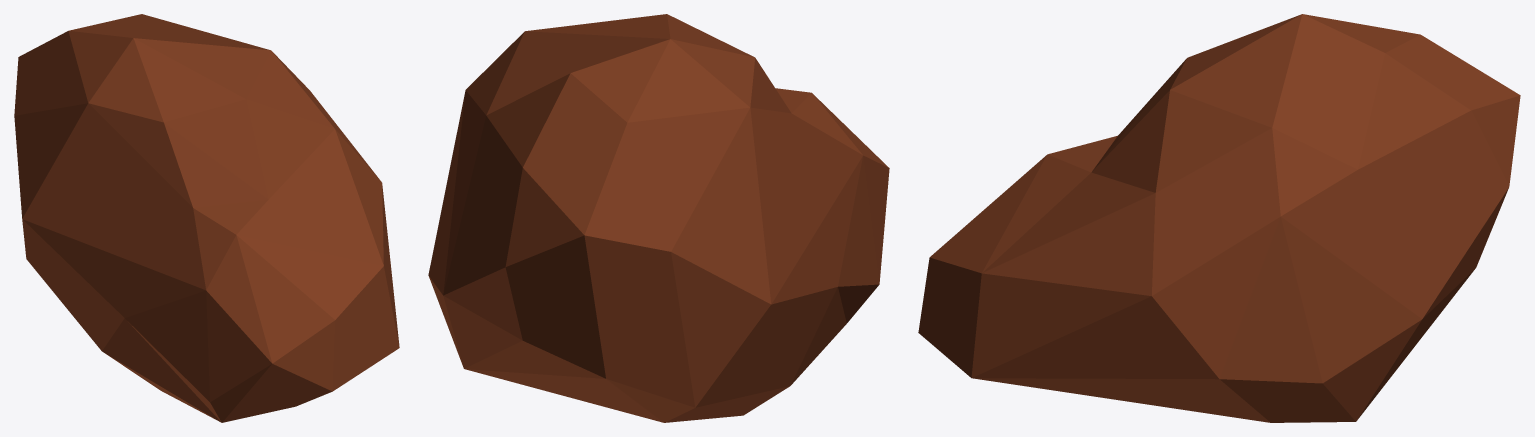
The model's file is Large_HighRock.fbx.
3 renders of one model, left to right at view 1: azimuth 30°, elevation 25°; view 2: azimuth 150°, elevation 25°; view 3: azimuth 270°, elevation 25°, orthographic. The views are drawn at different scales.
Visible parts, largest first — view 1: Large_HighRock; view 2: Large_HighRock; view 3: Large_HighRock.
Part boxes in pixels (x1,y1,x2,y2): Large_HighRock: [14, 14, 399, 422]; Large_HighRock: [428, 14, 889, 422]; Large_HighRock: [918, 14, 1520, 422].
Size of the model in its own units: 4.69 by 4.75 by 6.77.
